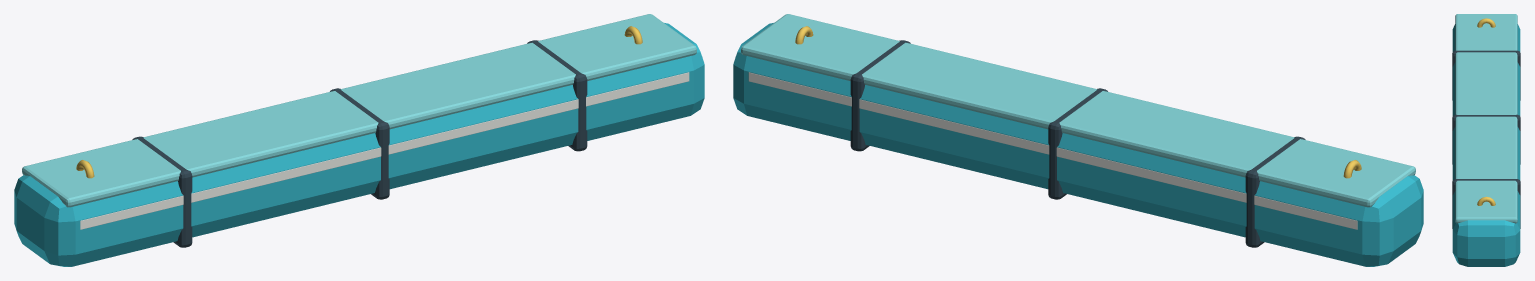
Rendered from pontoon.glb.
3 renders of one model, left to right at view 1: azimuth 30°, elevation 25°; view 2: azimuth 150°, elevation 25°; view 3: azimuth 270°, elevation 25°, orthographic. The views are drawn at different scales.
Parts seen in each view (by area): view 1: tyaga-pontoon-surface; view 2: tyaga-pontoon-surface; view 3: tyaga-pontoon-surface.
Boxes of the visible parts, x1,y1,x2,y2 form: tyaga-pontoon-surface: (14, 14, 704, 266); tyaga-pontoon-surface: (733, 14, 1423, 266); tyaga-pontoon-surface: (1452, 14, 1520, 266).
Size of the model in its own units: 6 by 0.7685 by 0.813.
